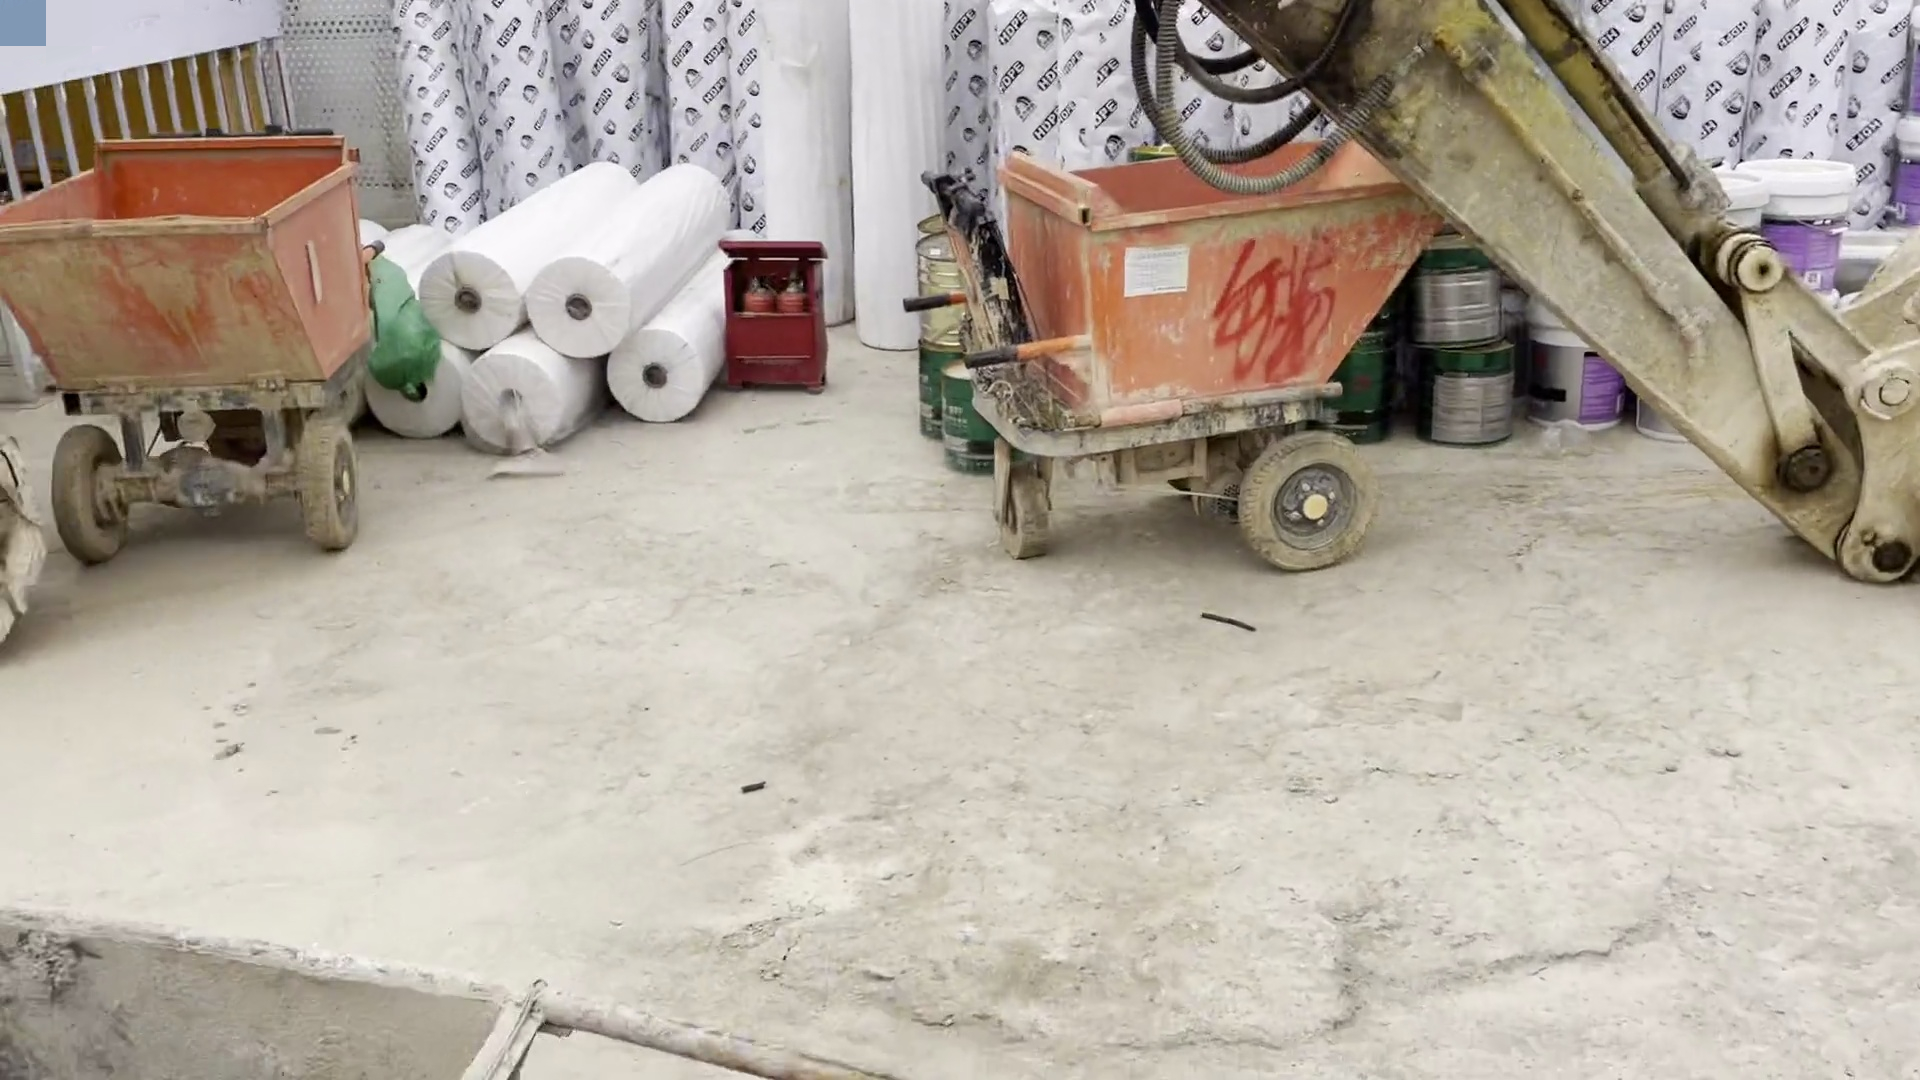hopper: (932, 152, 1465, 570), (3, 131, 396, 553)
